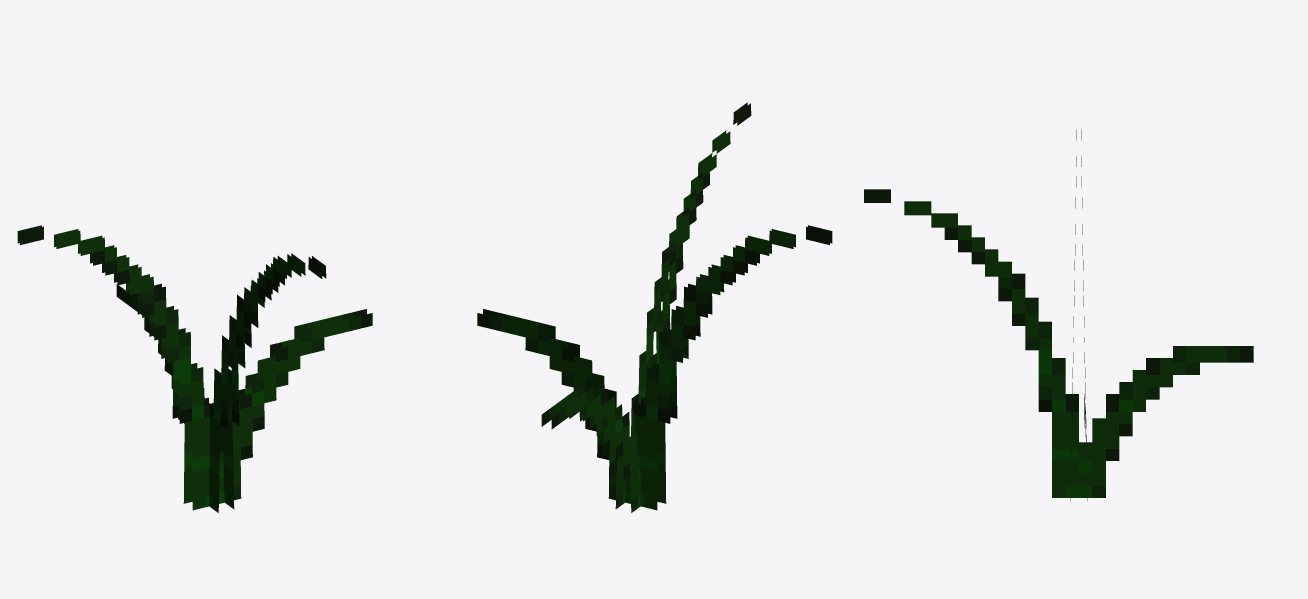
Rendered from grass09_summer.glb.
The picture shows the model from 3 angles, left to right: view 1: azimuth 30°, elevation 25°; view 2: azimuth 150°, elevation 25°; view 3: azimuth 270°, elevation 25°; orthographic projection. The views are drawn at different scales.
Visible parts, largest first — view 1: grass09; view 2: grass09; view 3: grass09.
Part boxes in pixels (box(x1,y1,x2,y2)): grass09: box(17, 225, 372, 512); grass09: box(477, 102, 832, 512); grass09: box(864, 129, 1253, 500).
Bounding box in the file's own units: 0.4 × 0.4 × 0.4.
1 material, 1 textured.
